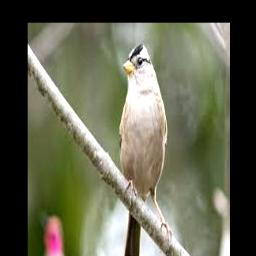Sparrow: (119, 44, 171, 256)
